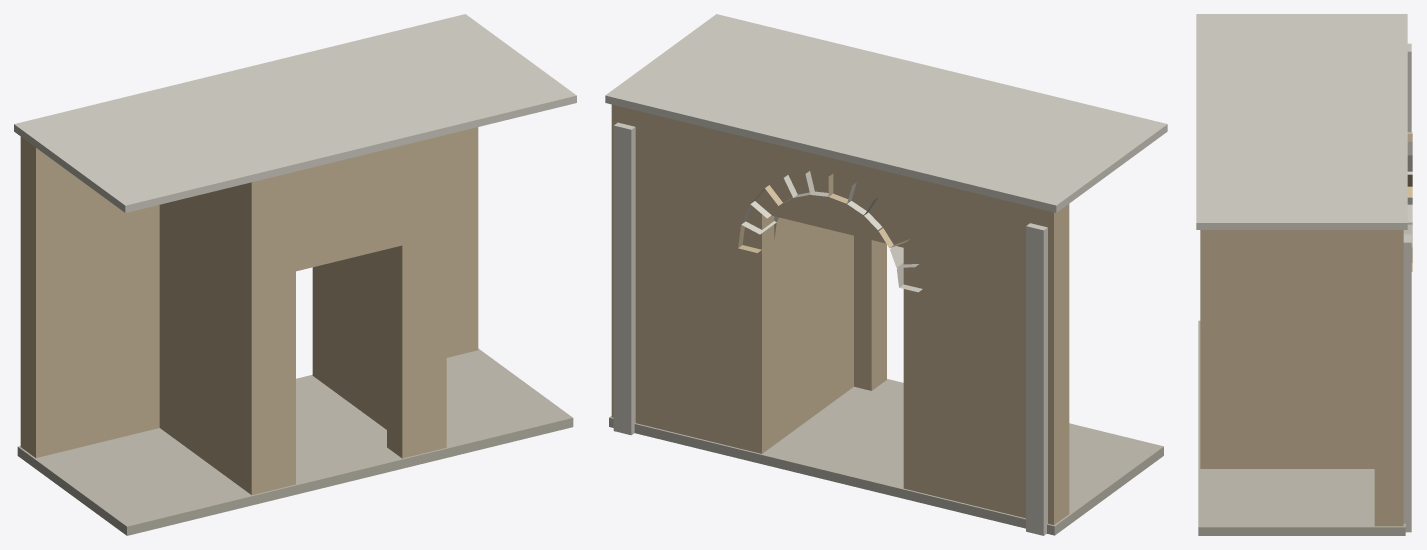
Rendered from entry_recess_arch_b.glb.
The picture shows the model from 3 angles, left to right: view 1: azimuth 30°, elevation 25°; view 2: azimuth 150°, elevation 25°; view 3: azimuth 270°, elevation 25°; orthographic projection. The views are drawn at different scales.
Visible parts, largest first — view 1: LOD0; view 2: LOD0; view 3: LOD0.
Part boxes in pixels (x1,y1,x2,y2): LOD0: [14, 14, 576, 535]; LOD0: [605, 14, 1167, 535]; LOD0: [1196, 14, 1412, 535].
Bounding box in the file's own units: 5.1 × 3.58 × 2.23.
